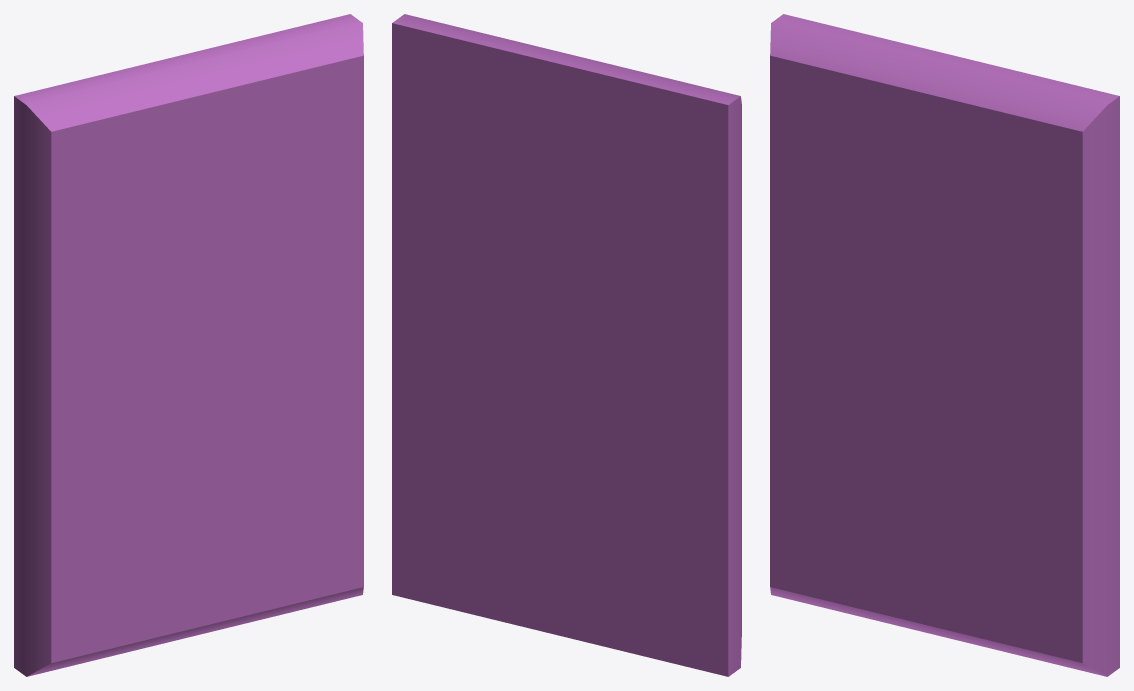
File: WallPad_01.fbx
3 renders of one model, left to right at view 1: azimuth 30°, elevation 25°; view 2: azimuth 150°, elevation 25°; view 3: azimuth 330°, elevation 25°, orthographic.
Parts seen in each view (by area): view 1: pCube8; view 2: pCube8; view 3: pCube8.
Part boxes in pixels (box(x1,y1,x2,y2)): pCube8: box(14, 14, 363, 676); pCube8: box(392, 14, 741, 676); pCube8: box(770, 14, 1119, 676).
Size of the model in its own units: 178 by 289 by 23.16.
